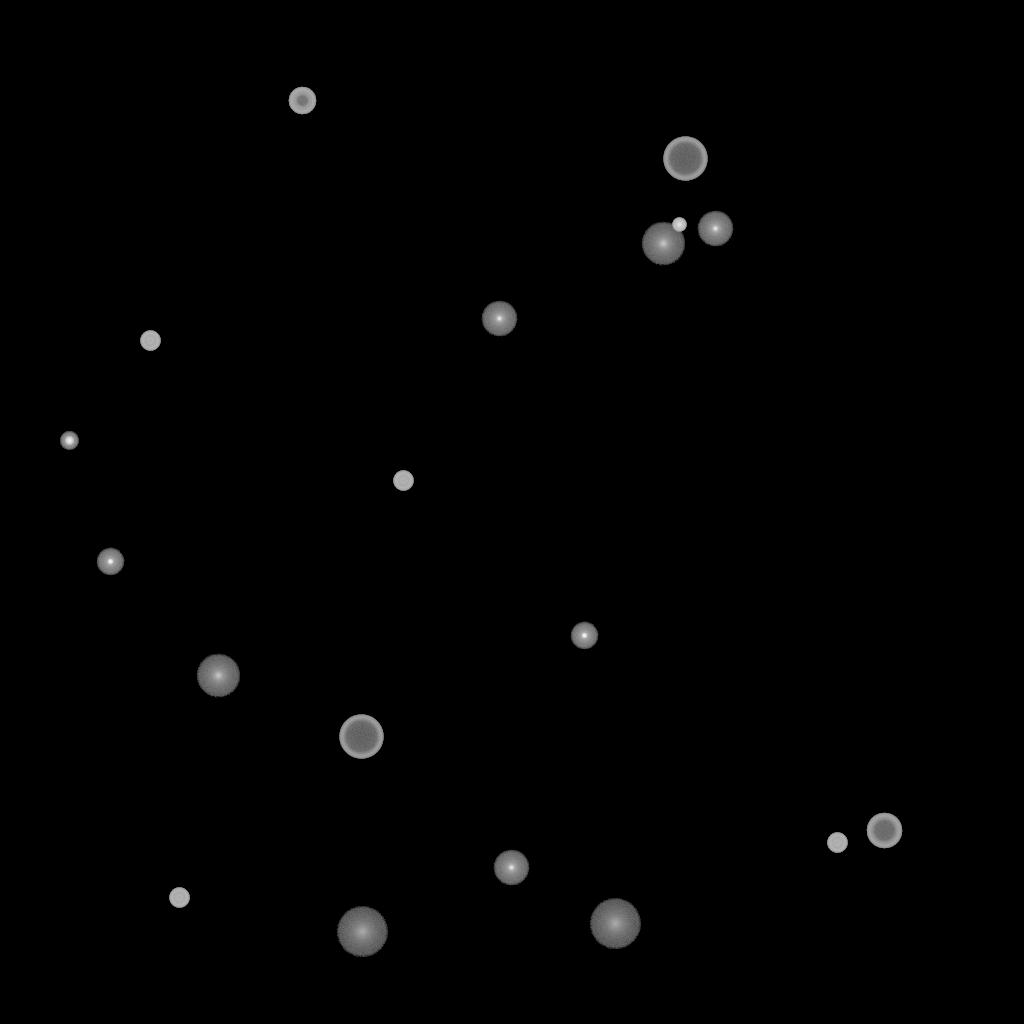depth:-10: (96, 548, 124, 576), (570, 622, 598, 650)
depth:-20: (60, 432, 78, 450)
depth:-30: (672, 218, 686, 232)
depth:-40: (393, 471, 413, 491), (169, 888, 189, 908), (827, 833, 847, 853), (140, 331, 160, 351)
depth:-50: (288, 87, 316, 115)
depth:-60: (866, 813, 902, 849)
depth:-70: (339, 715, 383, 759), (663, 137, 707, 181)
depth:0: (697, 211, 733, 247), (493, 850, 529, 886), (481, 301, 517, 337)
depth:10: (196, 654, 240, 698), (641, 222, 685, 266)
depth:20: (336, 907, 388, 957), (589, 899, 641, 949)
